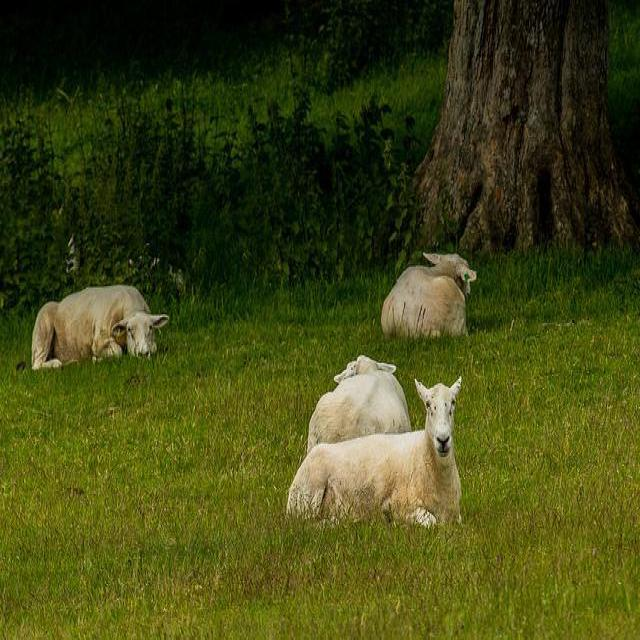Sheep: (290, 376, 461, 528), (31, 286, 172, 370), (308, 352, 413, 456), (382, 251, 477, 339)
